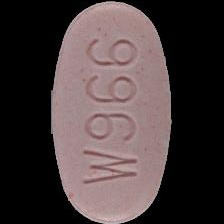0615-2557: (0, 0, 224, 224)
